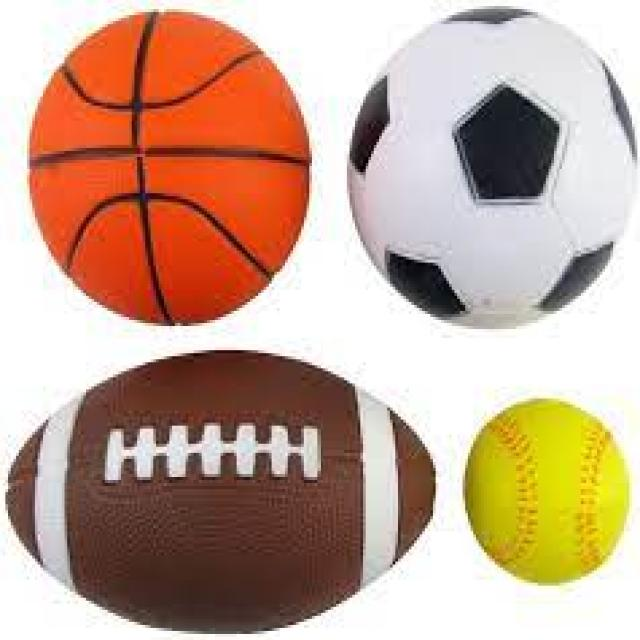football: (352, 9, 632, 320)
